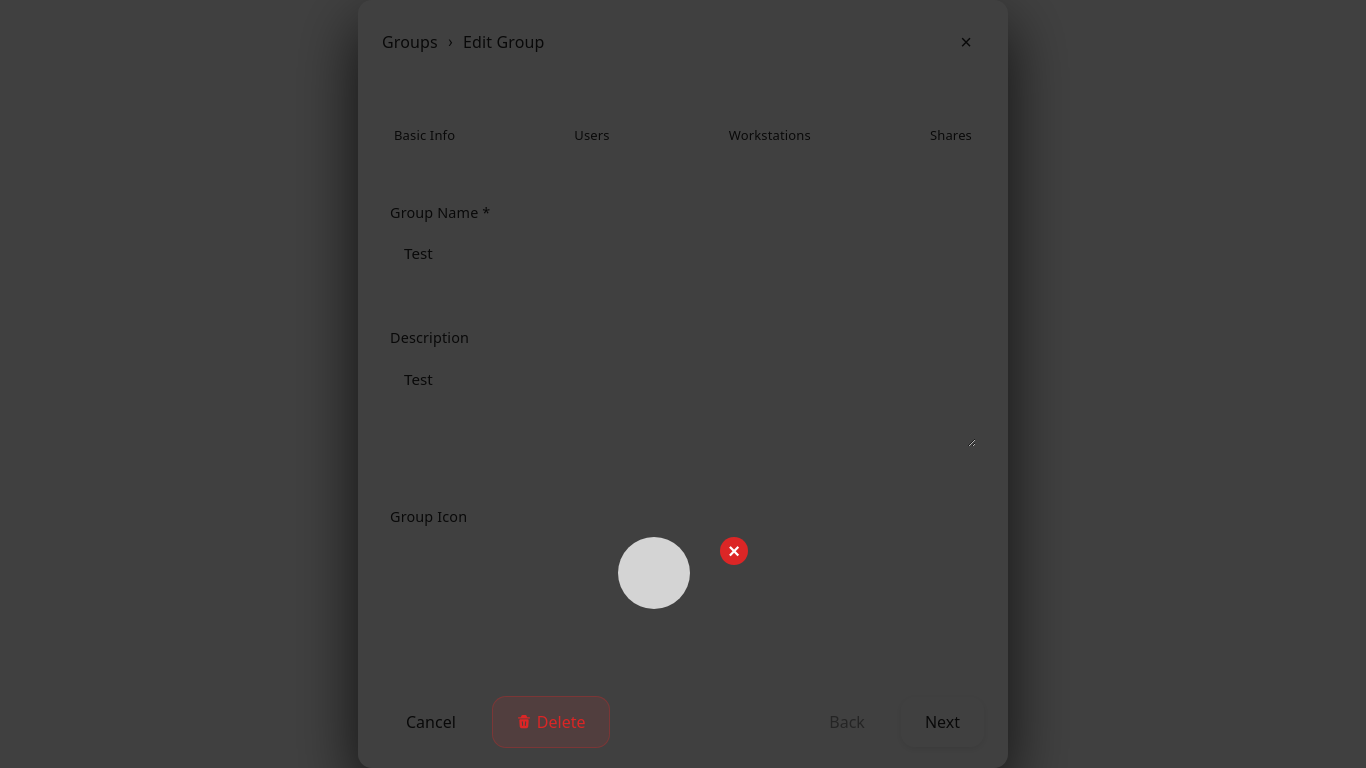
GroupsModal Component › Basic Info Step › handles image removal
The width and height of the screenshot is (1366, 768).
The last one is the image remove button (close button is first)
Click the button "×" below "Group Icon" at (734, 551), box x1=720 y1=537 x2=748 y2=565
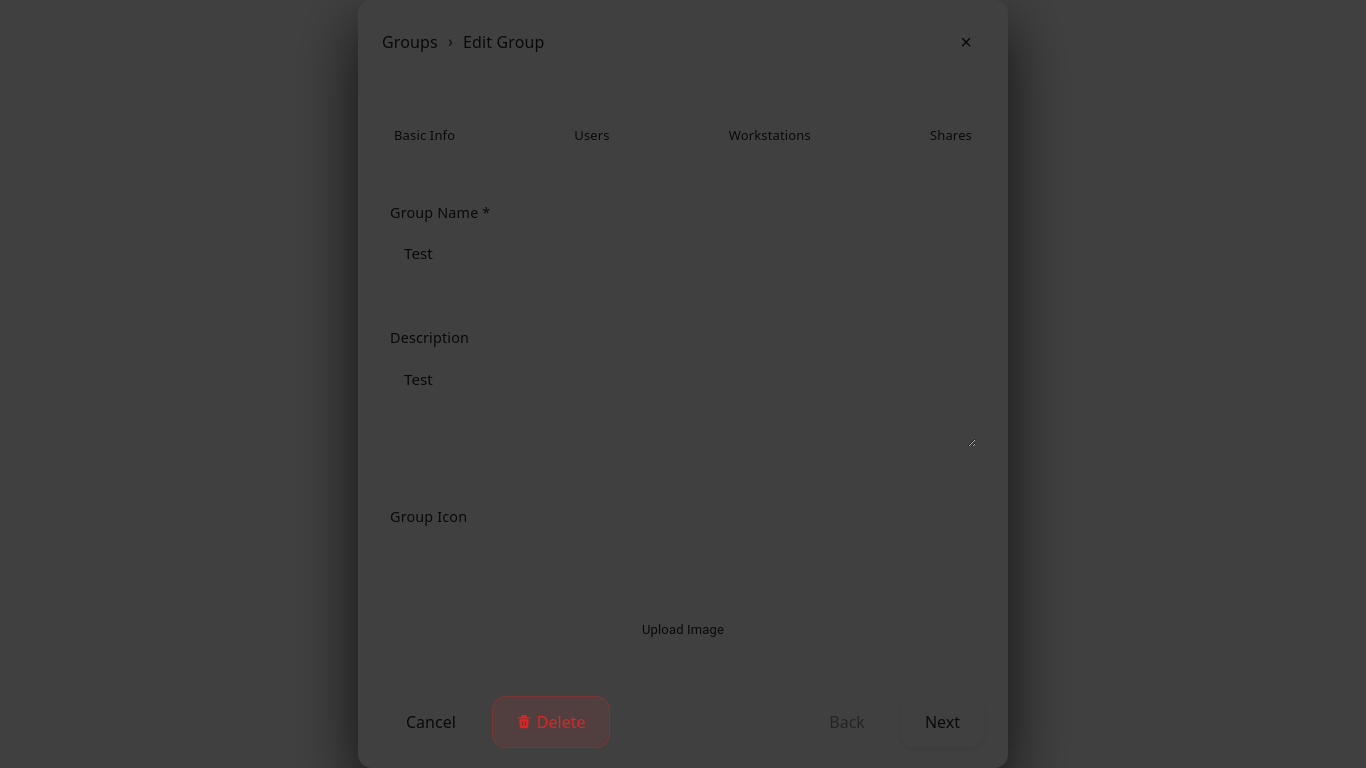
Expected: the text "Upload Image" is shown, x1=642 y1=620 x2=724 y2=639
